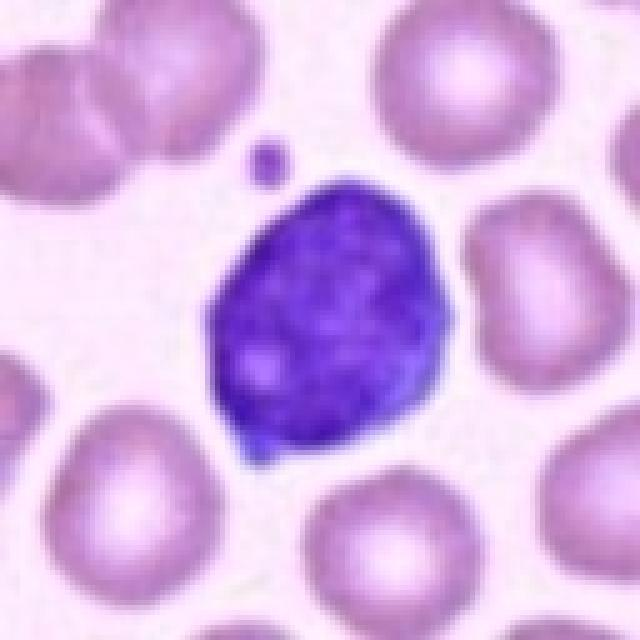lympho: (197, 165, 460, 481)
